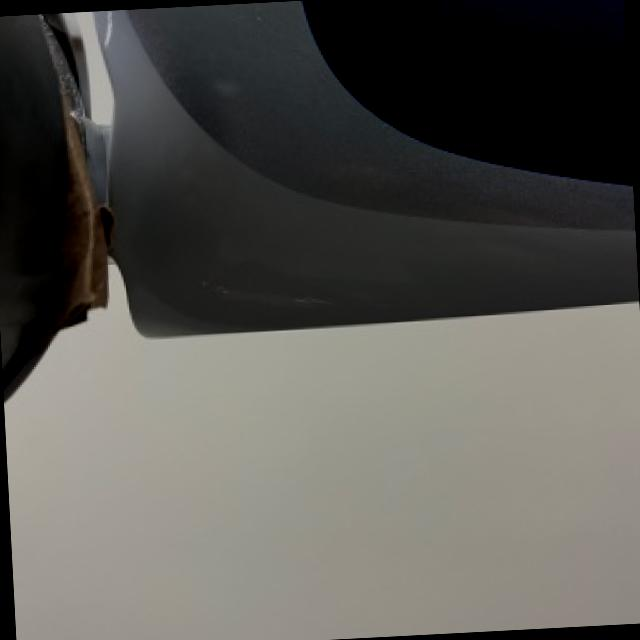healthy: (101, 0, 639, 333)
